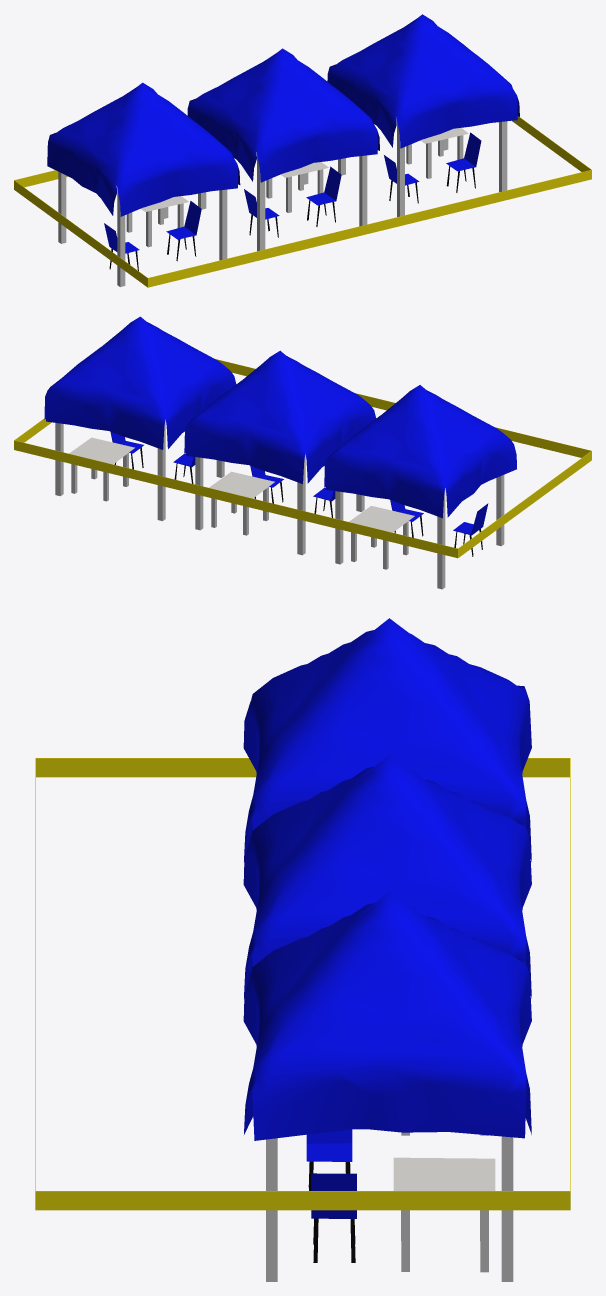
File: Tent.fbx
3 renders of one model, top to bottom at view 1: azimuth 30°, elevation 25°; view 2: azimuth 150°, elevation 25°; view 3: azimuth 270°, elevation 25°, orthographic. The views are drawn at different scales.
Visible parts, largest first — view 1: Tent, WarningLine; view 2: Tent, WarningLine; view 3: Tent, WarningLine.
Part boxes in pixels (x1,y1,x2,y2): Tent: [47, 14, 519, 286]; WarningLine: [14, 116, 591, 287]; Tent: [44, 316, 516, 589]; WarningLine: [14, 359, 591, 558]; Tent: [243, 618, 531, 1281]; WarningLine: [35, 758, 570, 1210].
Bounding box in the file's own units: 870 × 316 × 454.
